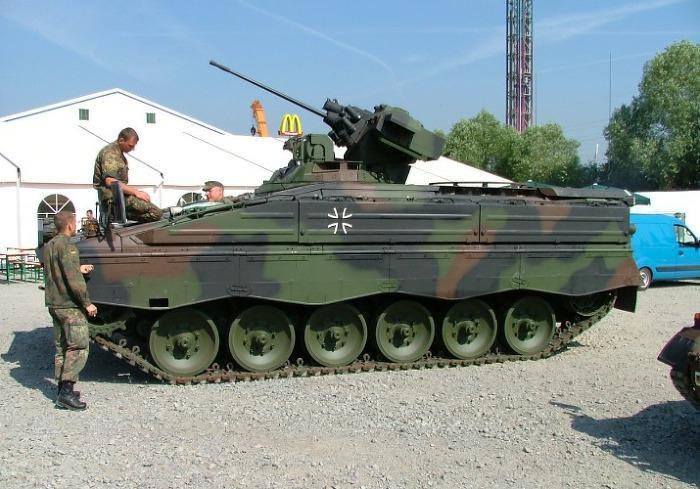MIL_IFV: (55, 90, 640, 390)
